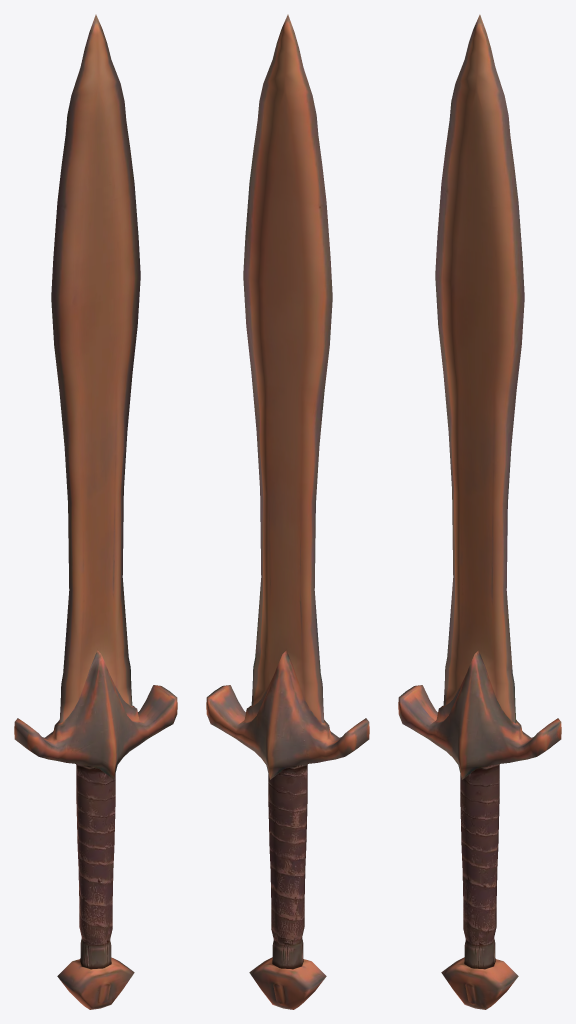
The picture shows the model from 3 angles, left to right: view 1: azimuth 30°, elevation 25°; view 2: azimuth 150°, elevation 25°; view 3: azimuth 330°, elevation 25°; orthographic projection.
Parts seen in each view (by area): view 1: SM_Sword_Bronze_1H_01_LOD0; view 2: SM_Sword_Bronze_1H_01_LOD0; view 3: SM_Sword_Bronze_1H_01_LOD0.
Part boxes in pixels (x1,y1,x2,y2): SM_Sword_Bronze_1H_01_LOD0: (14, 14, 177, 1009); SM_Sword_Bronze_1H_01_LOD0: (206, 14, 369, 1009); SM_Sword_Bronze_1H_01_LOD0: (398, 14, 561, 1009).
Size of the model in its own units: 0.1809 by 1.15 by 0.0815.
1 material, 1 textured.
